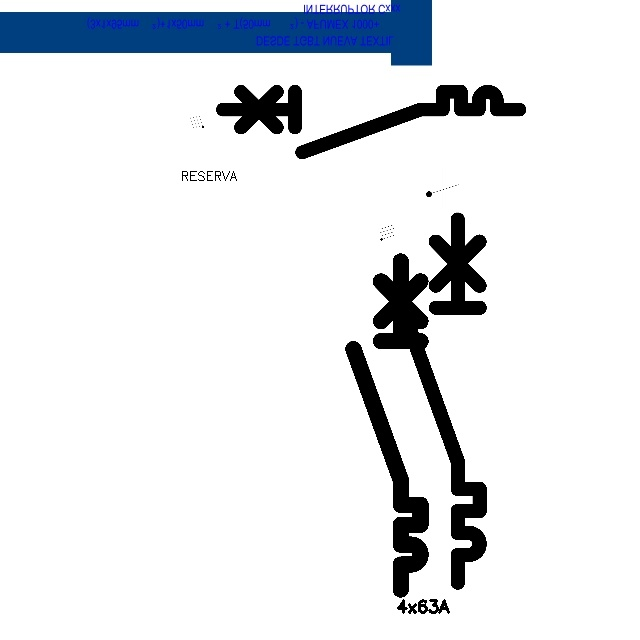interruptor_termomagnetico: (396, 210, 489, 591), (345, 253, 429, 598), (215, 84, 527, 160)
